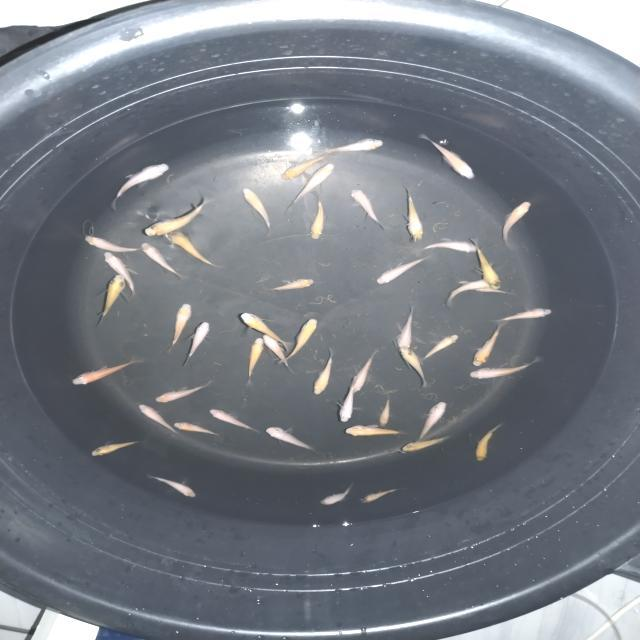nila: (416, 132, 478, 184), (108, 162, 172, 210), (282, 160, 338, 214), (143, 195, 210, 239), (163, 222, 221, 270), (68, 355, 138, 390), (471, 351, 545, 383), (278, 316, 323, 366), (238, 312, 294, 350), (179, 320, 224, 366), (500, 198, 539, 251), (137, 239, 184, 282), (92, 276, 132, 326), (262, 424, 322, 456), (470, 318, 508, 368), (101, 248, 142, 292), (242, 184, 276, 236), (348, 187, 386, 233), (282, 148, 329, 185), (164, 302, 198, 353), (152, 378, 212, 406), (206, 406, 262, 435), (469, 237, 502, 286), (375, 255, 427, 286), (134, 402, 178, 438), (84, 232, 144, 258), (146, 472, 197, 502), (470, 424, 506, 466), (262, 335, 298, 376), (389, 304, 417, 356), (348, 351, 379, 396), (310, 350, 339, 398), (398, 189, 424, 242), (445, 278, 494, 306), (416, 401, 449, 442), (395, 346, 426, 387), (418, 333, 463, 361), (494, 305, 560, 324), (336, 373, 360, 424), (84, 440, 143, 460), (316, 480, 356, 509), (400, 434, 452, 456), (244, 336, 268, 382), (168, 420, 222, 440), (306, 190, 326, 243), (322, 137, 385, 153), (340, 423, 402, 438), (424, 238, 482, 254), (362, 485, 400, 508), (456, 281, 509, 296), (271, 276, 315, 294), (375, 396, 393, 430)
